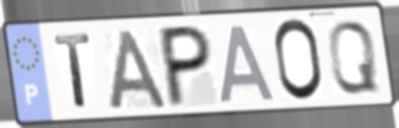A: (107, 27, 171, 112), (218, 23, 279, 106)
O: (272, 16, 327, 104)
P: (160, 23, 214, 111)
Q: (325, 18, 381, 97)
T: (51, 32, 94, 113)
